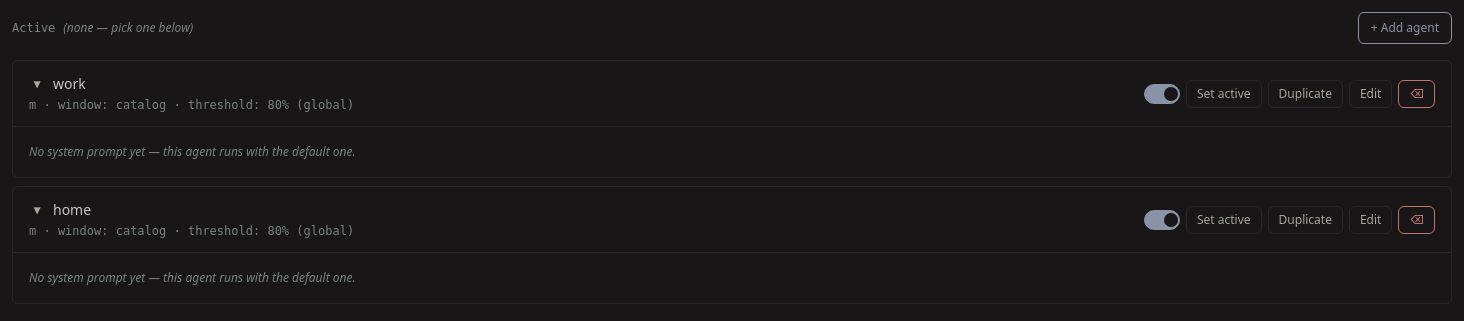
Scenario: AgentsSection › collapses and re-expands one agent without changing the others
Click the button with test id "expand-btn-work". click: (37, 84)
box: [29, 76, 45, 92]
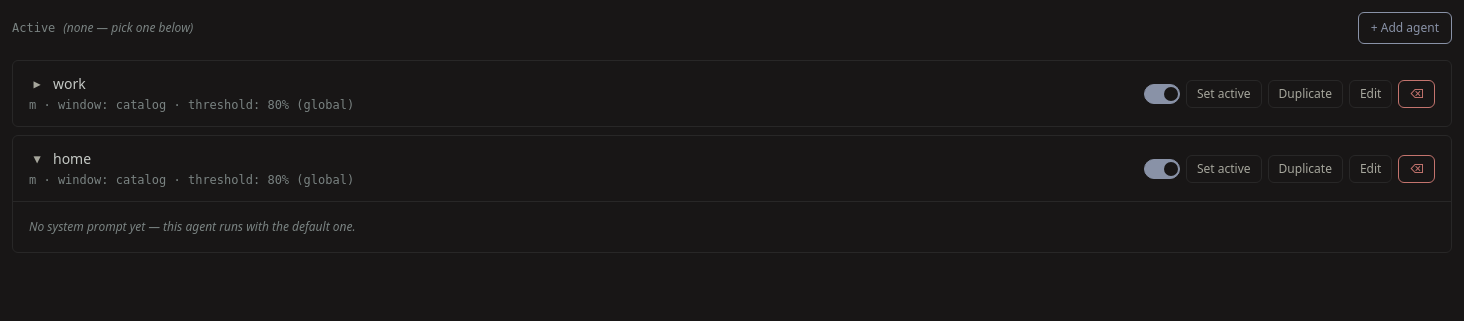
Expected: the element with test id "agent-details-home" is shown, [13, 201, 1451, 252]
Click the button with test id "expand-btn-work". click: (37, 84)
box: [29, 76, 45, 92]
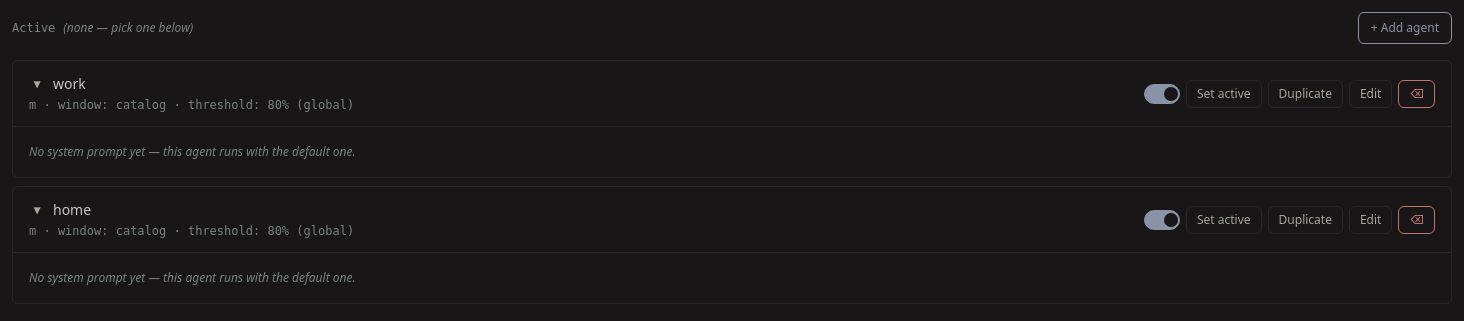
Expected: the element with test id "agent-details-work" is shown, [13, 126, 1451, 177]
